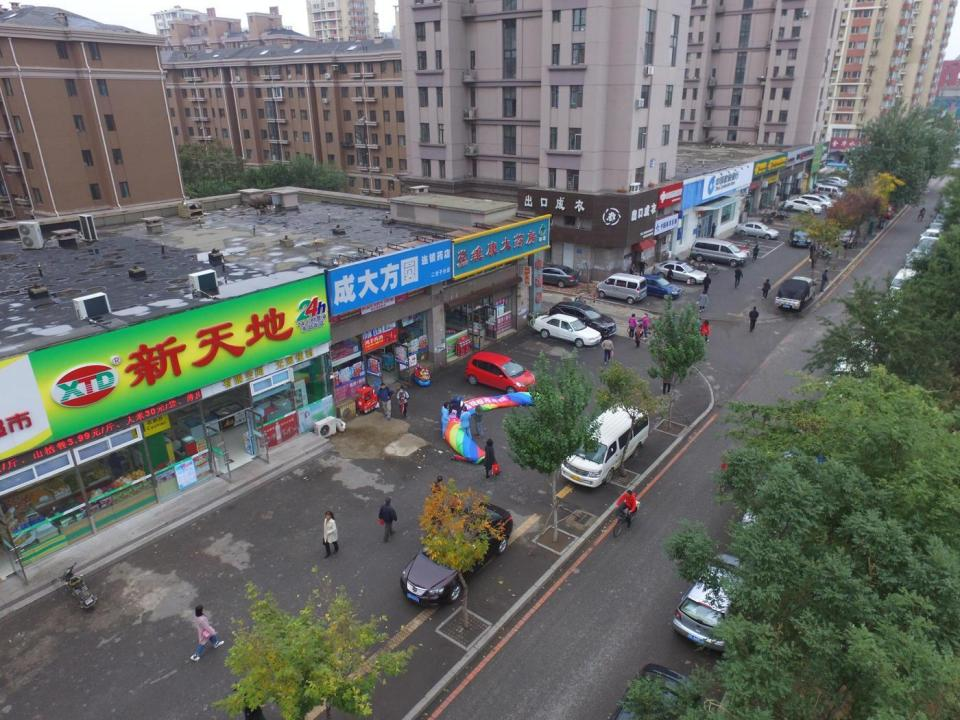car: (400, 502, 513, 607), (671, 554, 765, 652), (605, 661, 703, 720), (464, 351, 536, 396), (548, 300, 616, 338), (532, 313, 601, 347), (651, 261, 707, 285), (637, 274, 681, 299), (534, 265, 580, 287), (735, 222, 780, 241), (715, 238, 750, 258), (784, 198, 822, 213), (798, 195, 832, 209), (789, 227, 811, 247), (836, 229, 858, 248), (878, 203, 894, 219), (813, 195, 835, 206)
truck: (774, 276, 816, 311)
van: (560, 401, 650, 488), (690, 237, 747, 267), (598, 273, 648, 304), (817, 185, 842, 200), (818, 179, 844, 189), (823, 176, 846, 185)
